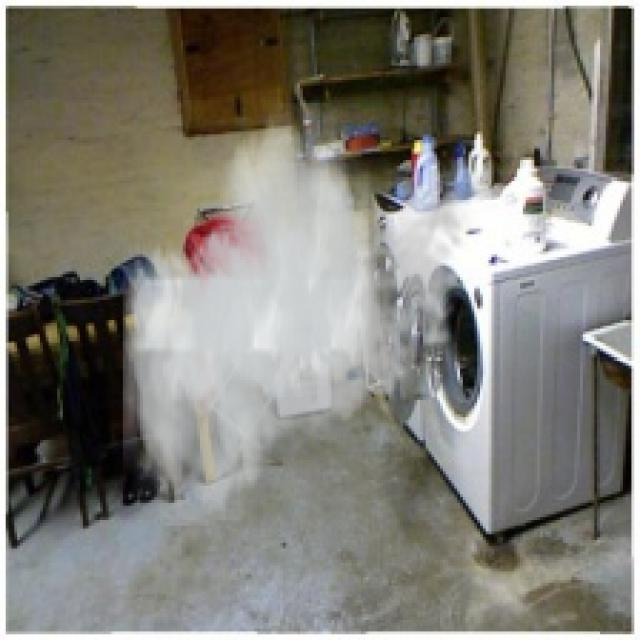smoke: (123, 103, 474, 526)
